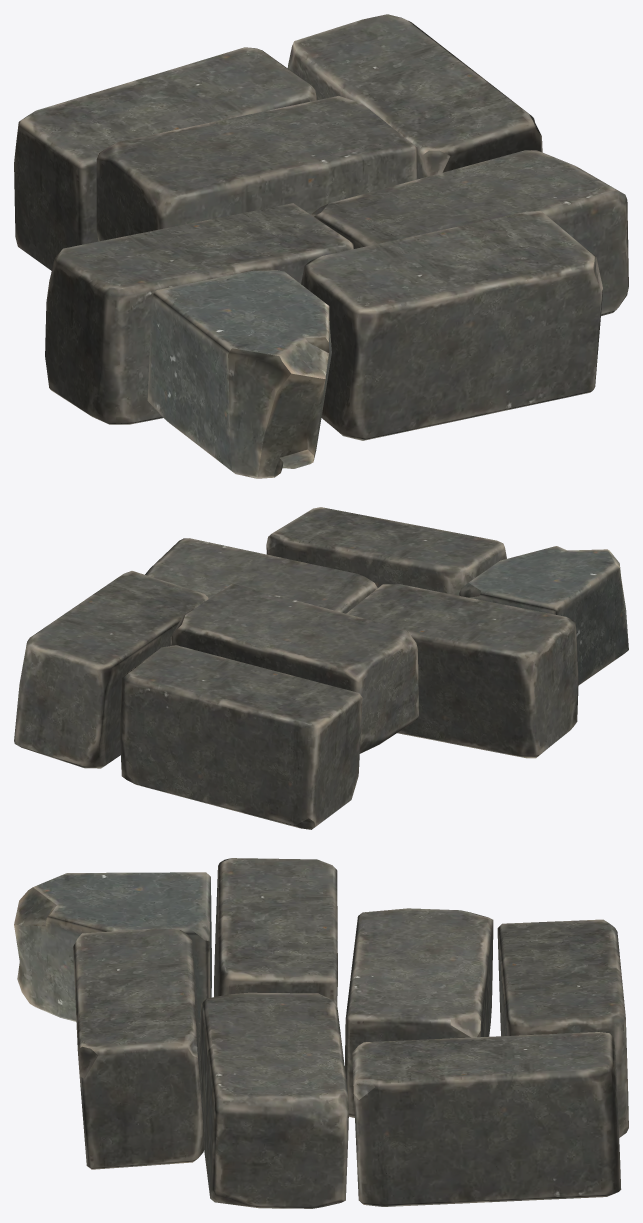
3 renders of one model, top to bottom at view 1: azimuth 30°, elevation 25°; view 2: azimuth 150°, elevation 25°; view 3: azimuth 270°, elevation 25°, orthographic. The views are drawn at different scales.
Visible parts, largest first — view 1: SM_Temple_Road_Stones_02_LOD0; view 2: SM_Temple_Road_Stones_02_LOD0; view 3: SM_Temple_Road_Stones_02_LOD0.
Part boxes in pixels (bbox=[...]): SM_Temple_Road_Stones_02_LOD0: bbox=[14, 14, 628, 478]; SM_Temple_Road_Stones_02_LOD0: bbox=[14, 507, 628, 829]; SM_Temple_Road_Stones_02_LOD0: bbox=[14, 858, 628, 1208].
Size of the model in its own units: 2.51 by 0.7221 by 2.82.
1 material, 1 textured.
